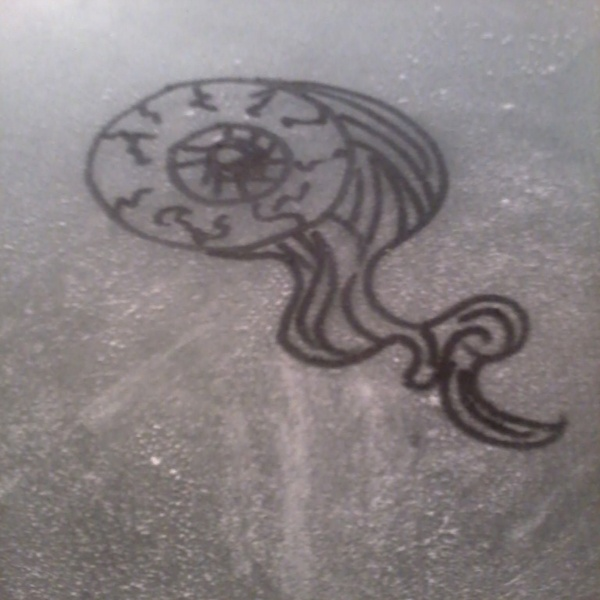Jellyfish: (83, 75, 572, 451)
